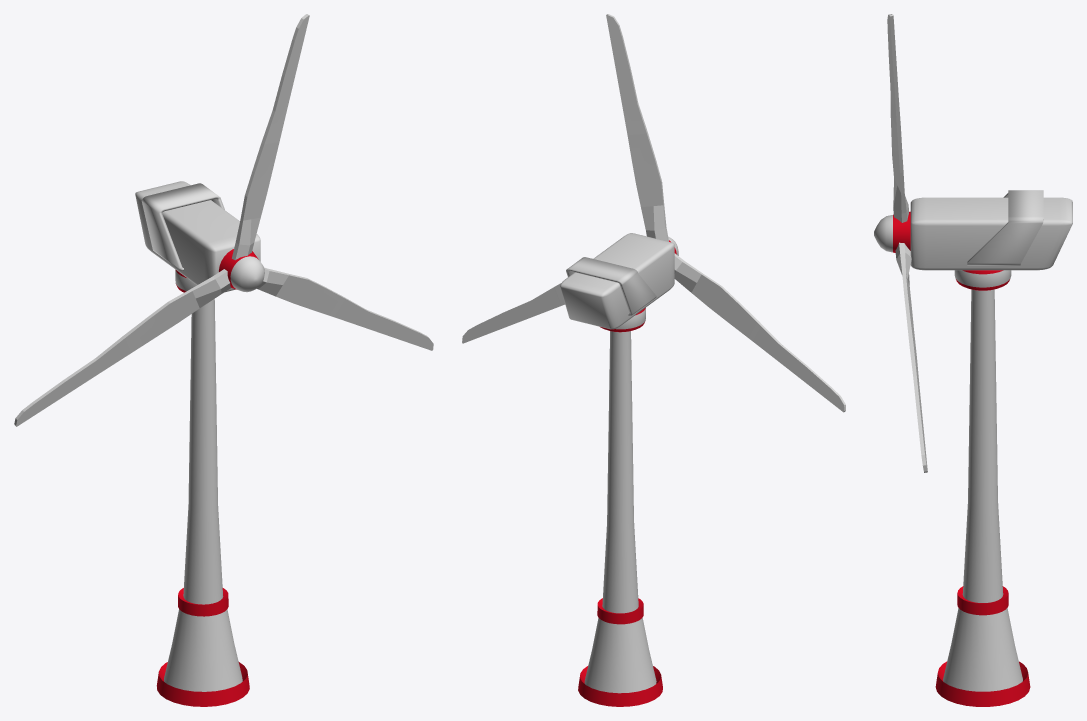
Rendered from Windmill.fbx.
The picture shows the model from 3 angles, left to right: view 1: azimuth 30°, elevation 25°; view 2: azimuth 150°, elevation 25°; view 3: azimuth 270°, elevation 25°; orthographic projection. The views are drawn at different scales.
Visible parts, largest first — view 1: Cylinder, Cylinder.001, Cube.001, Cube.002; view 2: Cylinder, Cylinder.001, Cube.001, Cube.002; view 3: Cylinder, Cube.001, Cylinder.001, Cube.002.
Boxes of the visible parts, box(x1,y1,x2,y2) form: Cylinder: box(156, 269, 249, 706); Cylinder.001: box(14, 14, 433, 426); Cube.001: box(135, 181, 260, 292); Cube.002: box(141, 183, 224, 271); Cylinder: box(578, 307, 662, 706); Cylinder.001: box(462, 14, 845, 412); Cube.001: box(560, 233, 674, 329); Cube.002: box(566, 257, 656, 315); Cylinder: box(935, 270, 1030, 706); Cube.001: box(910, 197, 1072, 270); Cylinder.001: box(874, 14, 927, 472); Cube.002: box(967, 190, 1043, 265).
Bounding box in the file's own units: 8.67 × 13.7 × 3.52.
